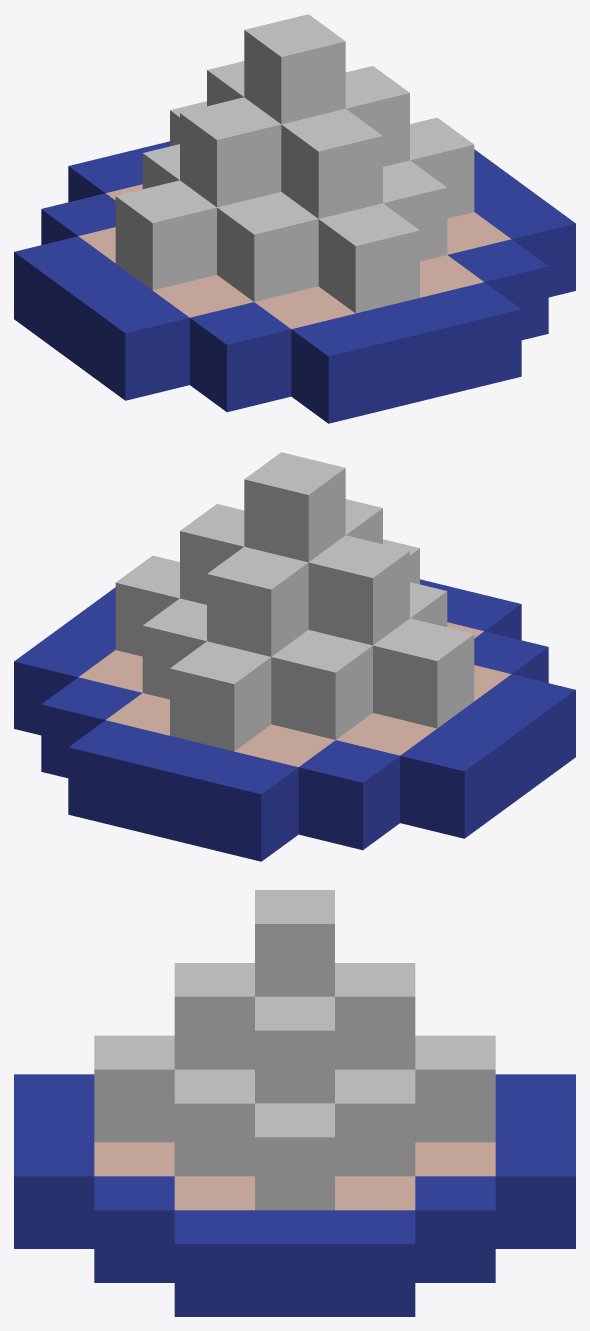
The model's file is Plate00_P02.gltf.
3 renders of one model, top to bottom at view 1: azimuth 30°, elevation 25°; view 2: azimuth 150°, elevation 25°; view 3: azimuth 270°, elevation 25°, orthographic. The views are drawn at different scales.
Visible parts, largest first — view 1: baseplate, rice; view 2: baseplate, rice; view 3: baseplate, rice.
Boxes of the visible parts, box(x1,y1,x2,y2) form: baseplate: box(14, 141, 575, 423); rice: box(115, 14, 474, 313); baseplate: box(14, 579, 575, 861); rice: box(115, 452, 474, 751); baseplate: box(14, 1074, 575, 1316); rice: box(94, 890, 495, 1210).
Bounding box in the file's own units: 7 × 4 × 7.
